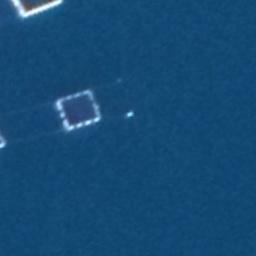square_solid: (53, 86, 107, 136), (5, 1, 70, 22)
